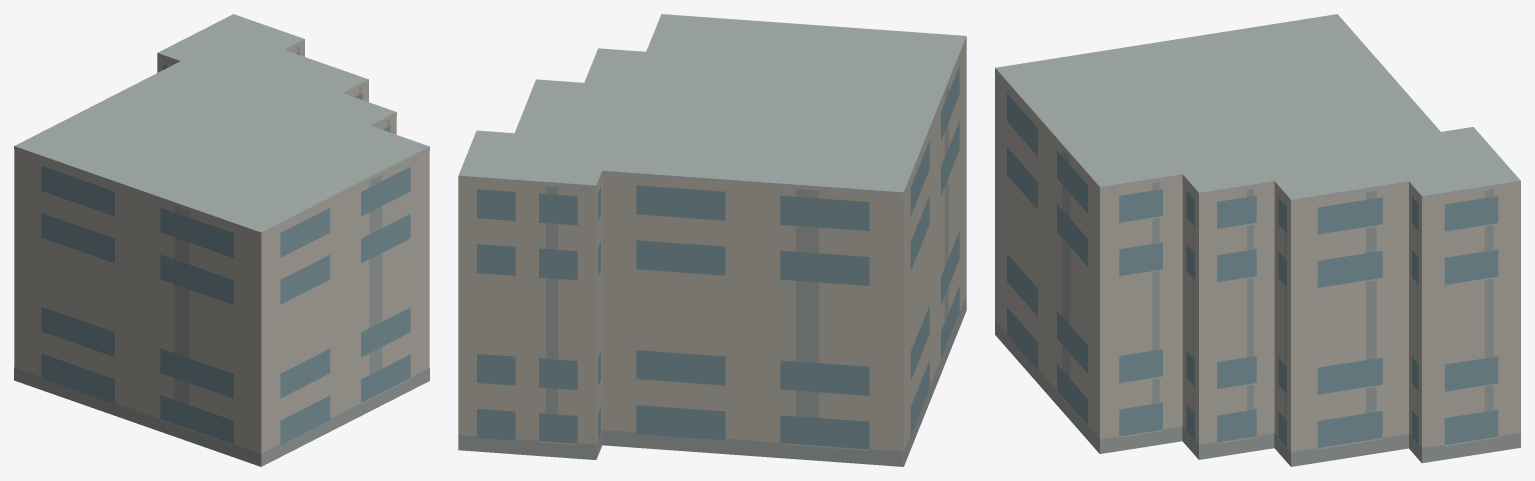
Rendered from residential-cdb9d9cc-ef2a-4e36-8cc7-fbaf533e10fb.glb.
3 views of the same model, side by side, from view 1: azimuth 30°, elevation 25°; view 2: azimuth 150°, elevation 25°; view 3: azimuth 270°, elevation 25° (orthographic). The views are drawn at different scales.
Parts seen in each view (by area): view 1: residential-cdb9d9cc-ef2a-4e36-8cc7-fbaf533e10fb.tmp; view 2: residential-cdb9d9cc-ef2a-4e36-8cc7-fbaf533e10fb.tmp; view 3: residential-cdb9d9cc-ef2a-4e36-8cc7-fbaf533e10fb.tmp.
Part boxes in pixels (left/top/right/bottom): residential-cdb9d9cc-ef2a-4e36-8cc7-fbaf533e10fb.tmp: left=14, top=14, right=429, bottom=466; residential-cdb9d9cc-ef2a-4e36-8cc7-fbaf533e10fb.tmp: left=458, top=14, right=966, bottom=466; residential-cdb9d9cc-ef2a-4e36-8cc7-fbaf533e10fb.tmp: left=995, top=14, right=1520, bottom=466.
Size of the model in its own units: 22.77 by 15.25 by 27.22.
